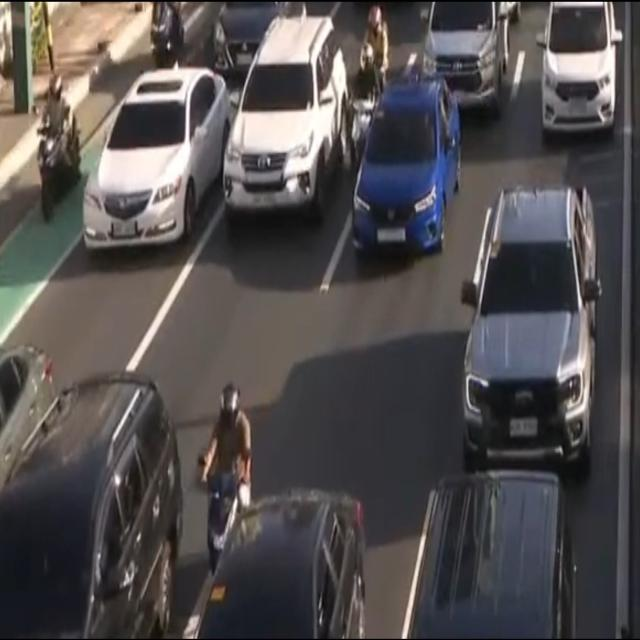Motorcycle: (198, 385, 248, 587), (31, 74, 80, 222), (349, 43, 380, 174)
SUV: (0, 374, 179, 640), (460, 183, 602, 480), (222, 14, 348, 222), (419, 0, 517, 123), (535, 0, 623, 132)
Sedan: (84, 67, 230, 252), (193, 488, 365, 640), (354, 77, 462, 263)
